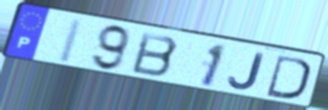1: (201, 43, 229, 89)
9: (90, 24, 132, 73)
B: (129, 31, 181, 79)
D: (264, 53, 313, 102)
I: (55, 17, 86, 65)
J: (227, 51, 266, 92)
